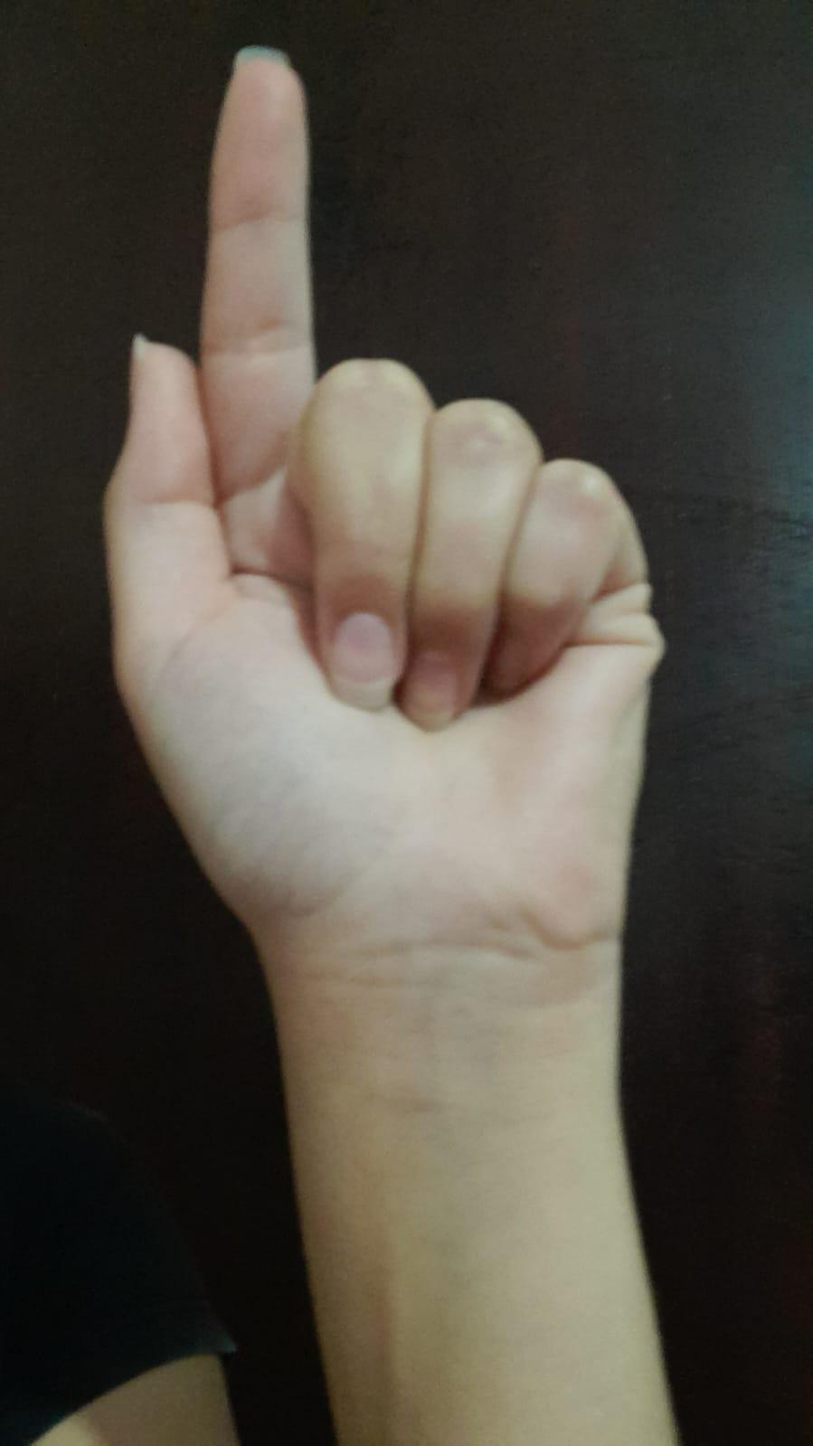G: (81, 36, 687, 950)
